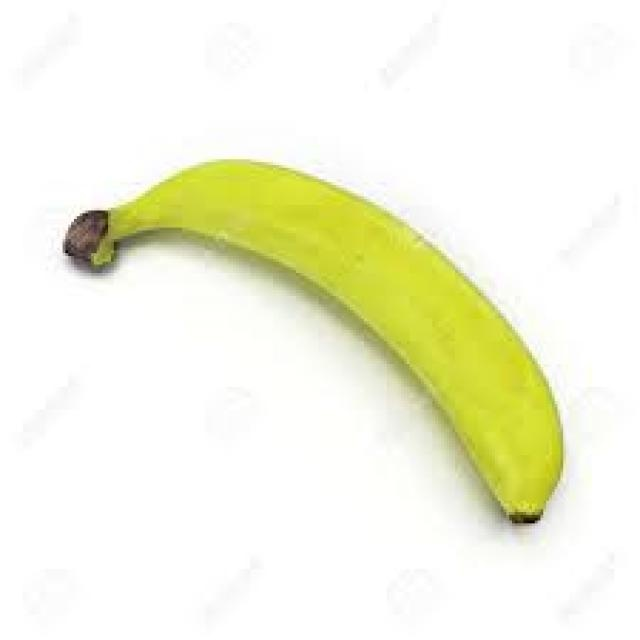agrume: (56, 149, 575, 535)
